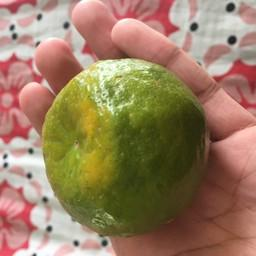Good_orange: (40, 52, 218, 233)
